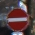No entry: (5, 6, 30, 30)
